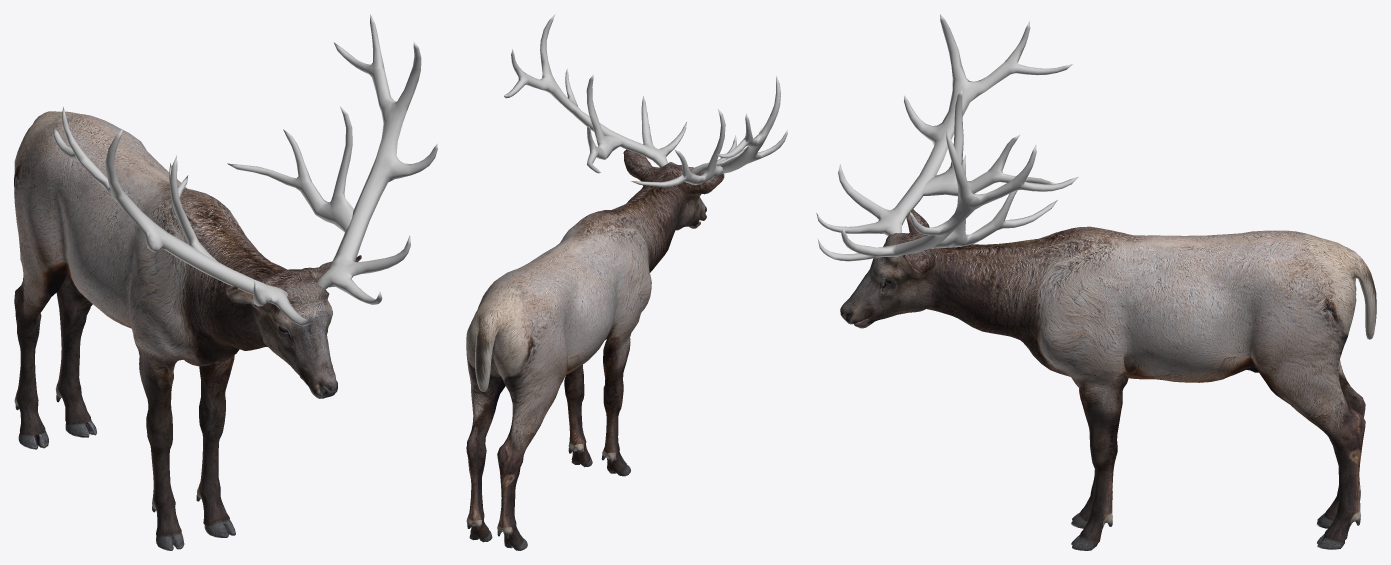
File: realistic_deer.obj
The picture shows the model from 3 angles, left to right: view 1: azimuth 30°, elevation 25°; view 2: azimuth 150°, elevation 25°; view 3: azimuth 270°, elevation 25°; orthographic projection. The views are drawn at different scales.
Parts seen in each view (by area): view 1: Deer_M_001_Deer_M_0, Deer_Antler_Deer_Antler_0, Deer_Antler_001_Deer_Antler_0; view 2: Deer_M_001_Deer_M_0, Deer_Antler_Deer_Antler_0, Deer_Antler_001_Deer_Antler_0; view 3: Deer_M_001_Deer_M_0, Deer_Antler_Deer_Antler_0, Deer_Antler_001_Deer_Antler_0.
Part boxes in pixels (box(x1,y1,x2,y2)): Deer_M_001_Deer_M_0: box(14, 111, 361, 550); Deer_Antler_Deer_Antler_0: box(53, 14, 437, 326); Deer_Antler_001_Deer_Antler_0: box(169, 106, 353, 261); Deer_M_001_Deer_M_0: box(466, 149, 724, 550); Deer_Antler_Deer_Antler_0: box(504, 14, 787, 174); Deer_Antler_001_Deer_Antler_0: box(586, 74, 725, 187); Deer_M_001_Deer_M_0: box(840, 209, 1376, 550); Deer_Antler_Deer_Antler_0: box(816, 14, 1078, 261); Deer_Antler_001_Deer_Antler_0: box(922, 90, 1057, 248).
Bounding box in the file's own units: 1.09 × 1.69 × 1.85.
